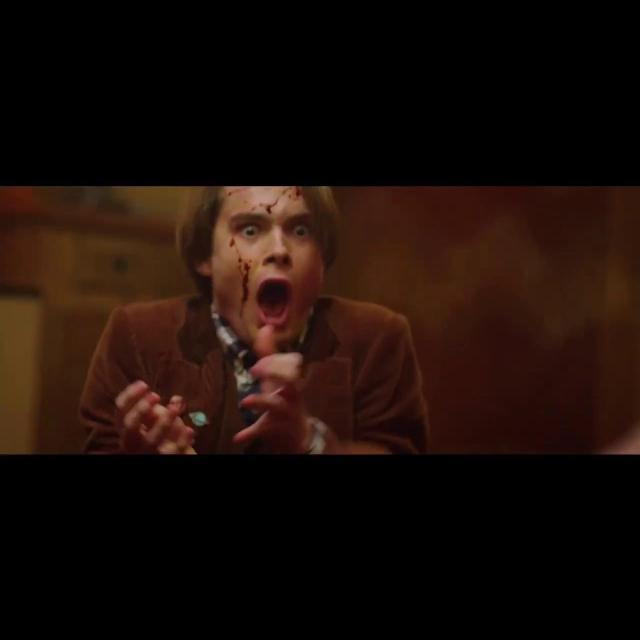blood: (247, 187, 302, 216), (238, 254, 252, 318), (232, 244, 244, 256), (228, 189, 246, 196), (230, 238, 234, 247)
